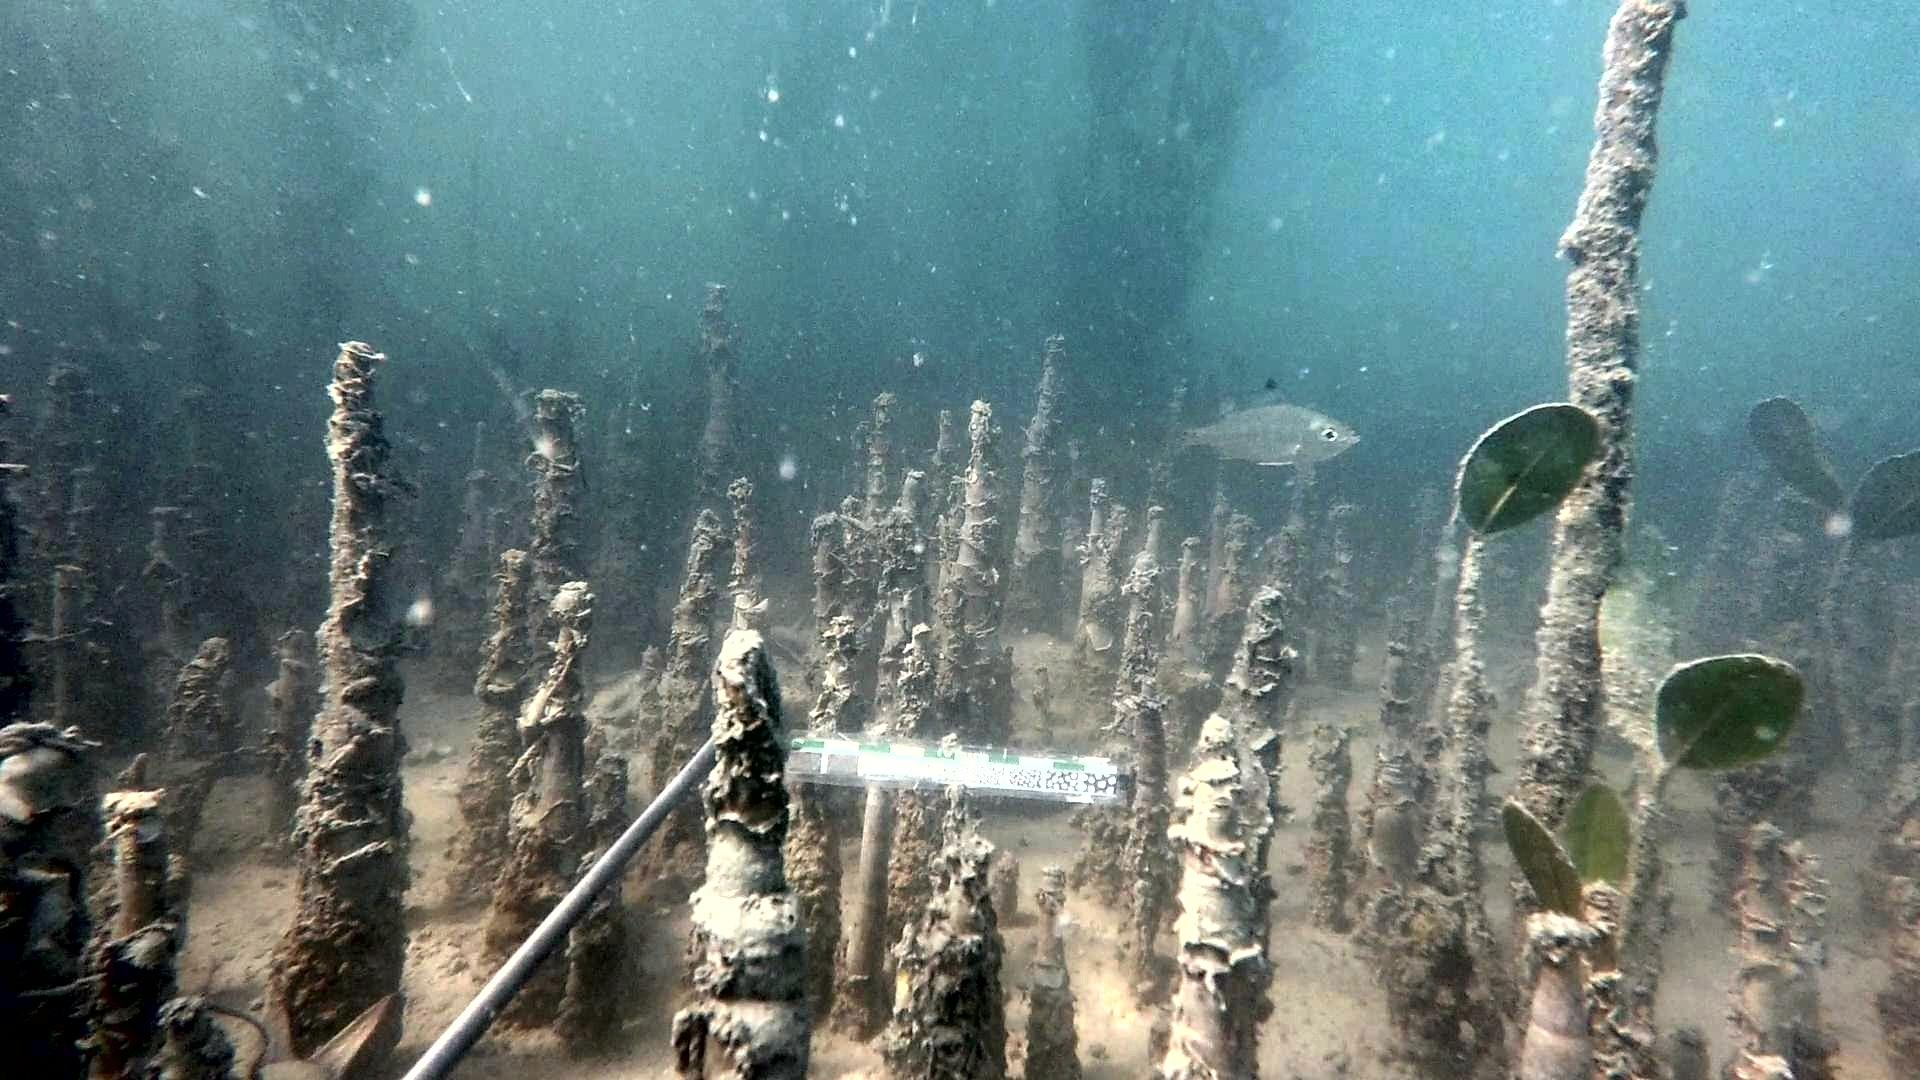gerres: (1149, 375, 1362, 468)
